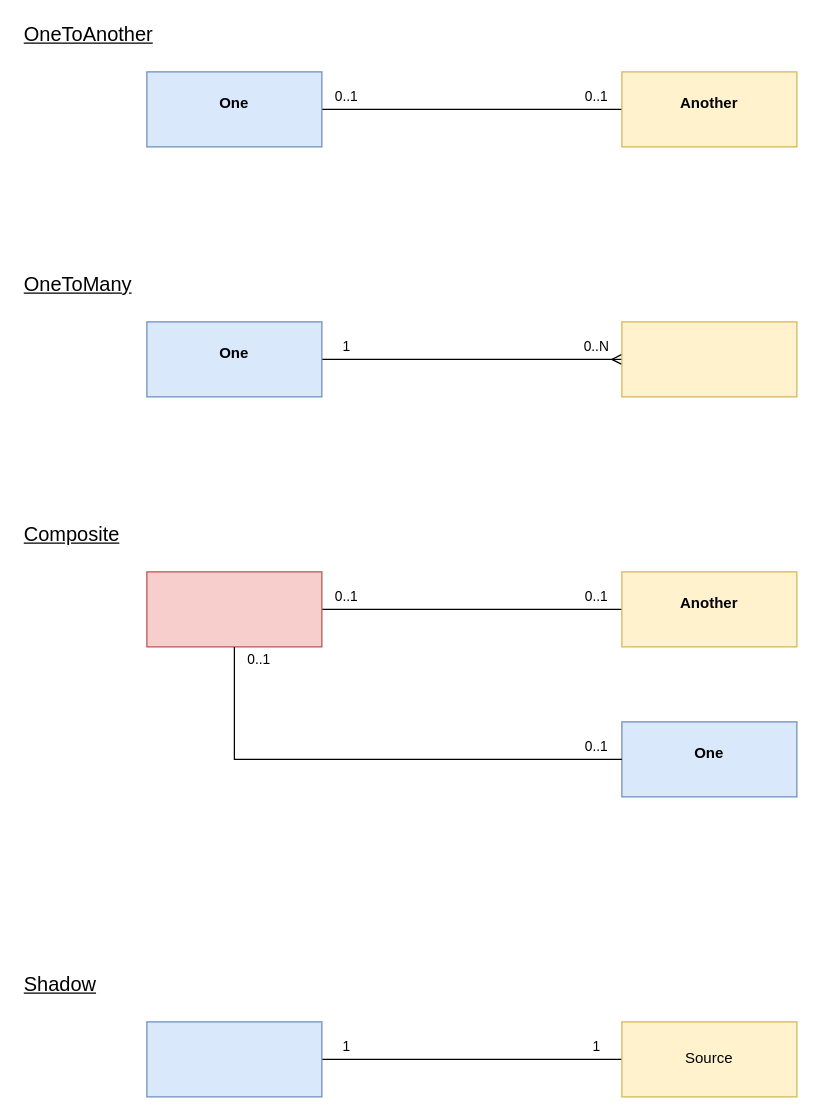
The diagram is 819 pixels wide and 1119 high, and some of its shapes have lost their labels. Here are the shapes that lost their labels. From the top down, the box of each, then its label:
(621, 321, 797, 397): Many
(146, 571, 322, 647): Connector
(146, 1021, 322, 1097): Transient
